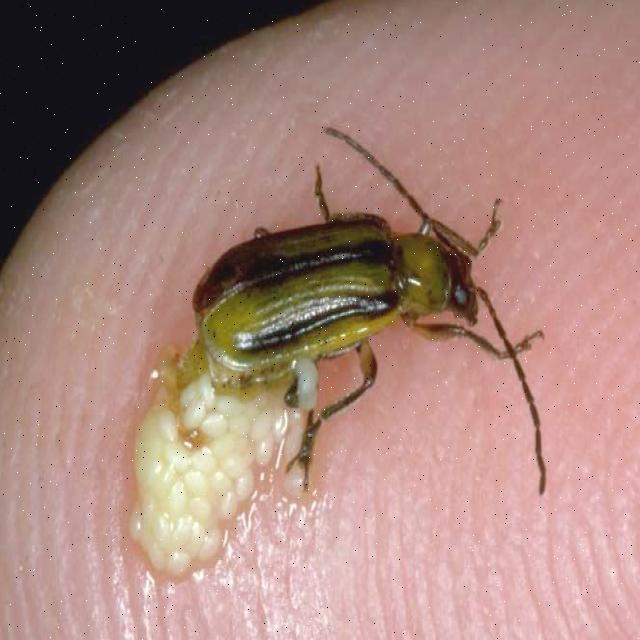trips: (168, 130, 542, 424)
